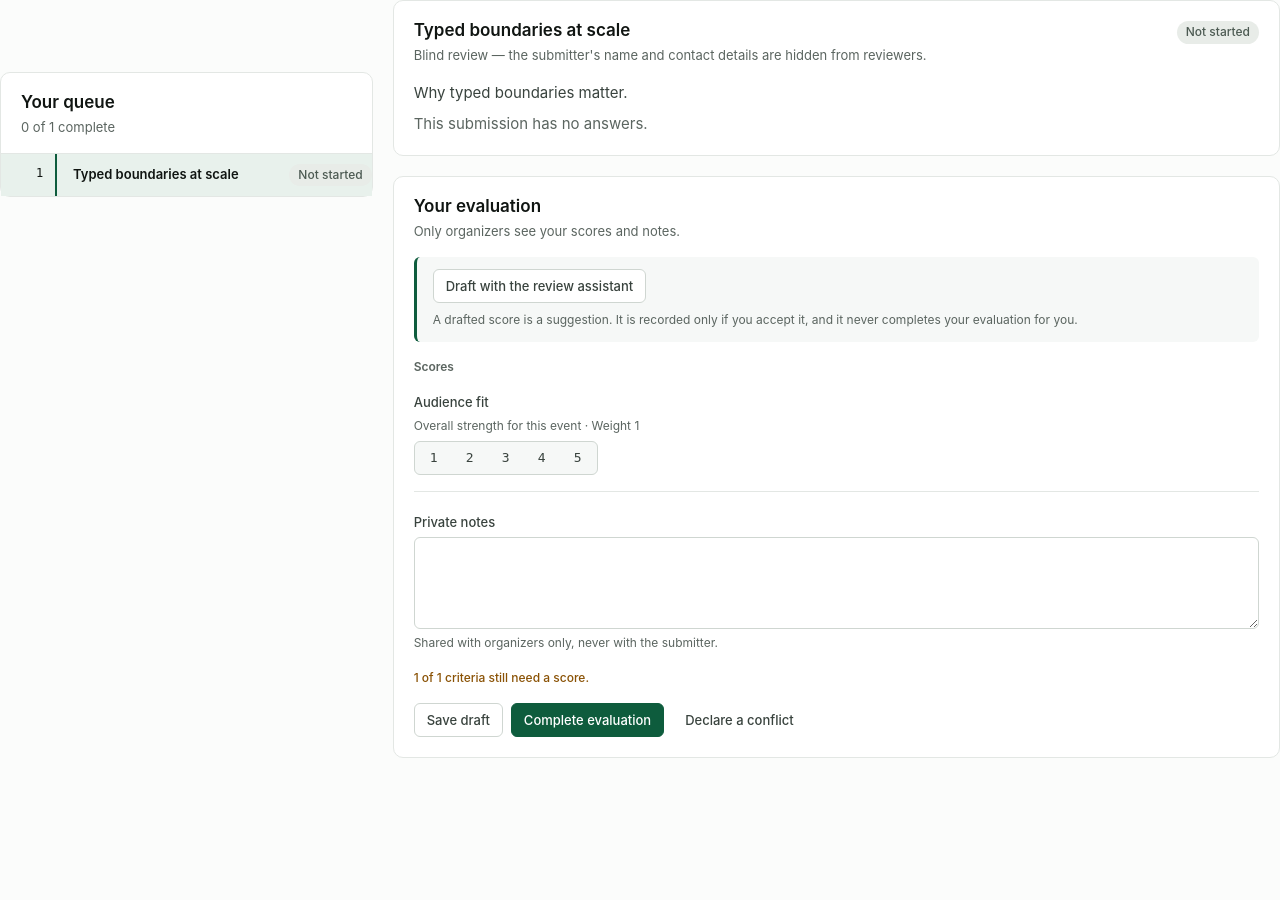
Scenario: the assistant's draft › leaves a usable scoring form when the assistant is unavailable
This screenshot has width=1280, height=900.
Click the button "Draft with the review assistant" at (540, 286), box [433,269,646,303]
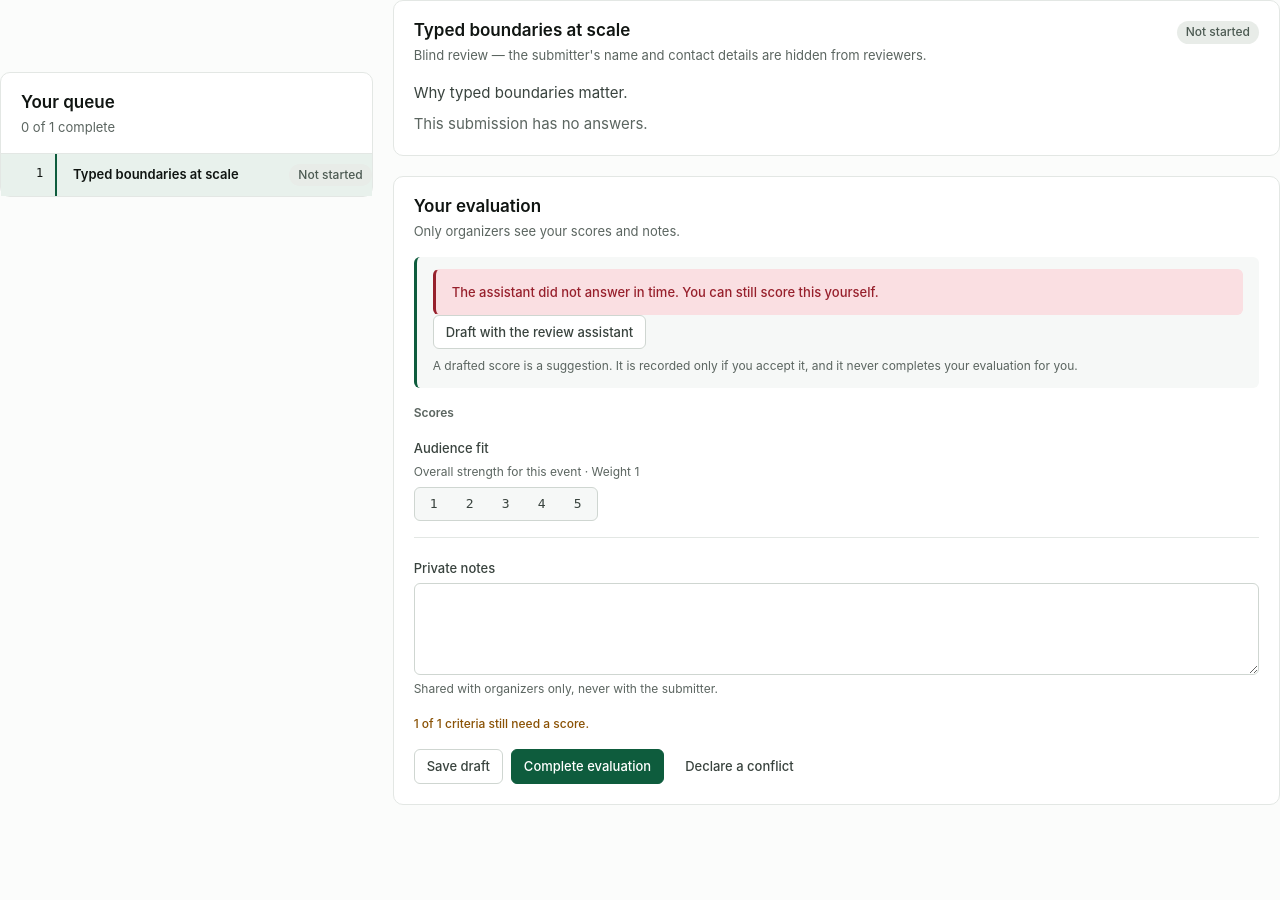
Check: the radio button labelled "3" is enabled, box [489,490,523,518]
Check: the text "The assistant did not answer in time. You can still score this yourself." is shown, box [452,284,879,300]
